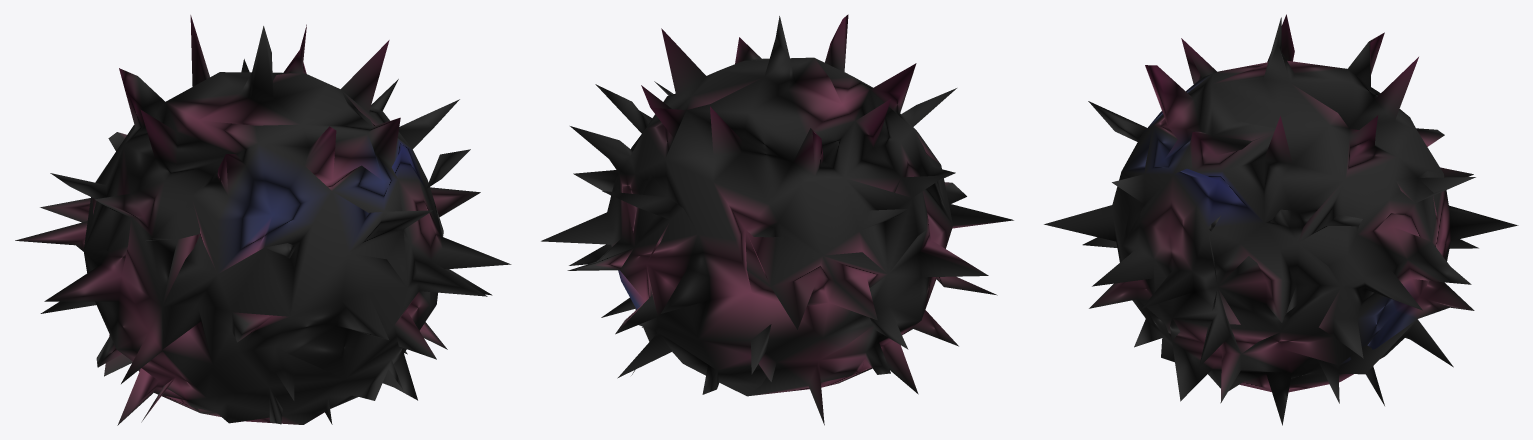
The model's file is gen3d-sea-urchin-lod1.glb.
3 views of the same model, side by side, from view 1: azimuth 30°, elevation 25°; view 2: azimuth 150°, elevation 25°; view 3: azimuth 270°, elevation 25° (orthographic). The views are drawn at different scales.
Visible parts, largest first — view 1: part_0; view 2: part_0; view 3: part_0.
Boxes of the visible parts, box(x1,y1,x2,y2) form: part_0: box(15, 15, 511, 425); part_0: box(541, 14, 1013, 425); part_0: box(1044, 14, 1518, 425).
Size of the model in its own units: 1.15 by 0.9532 by 1.15.
